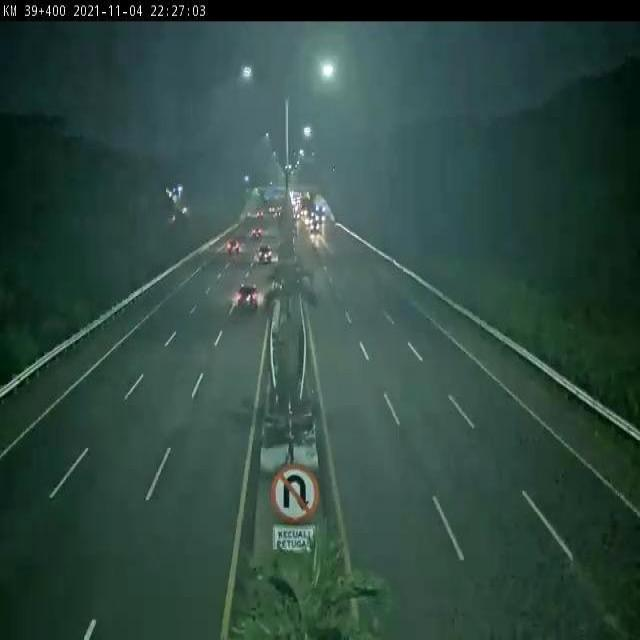car: (236, 280, 259, 313)
